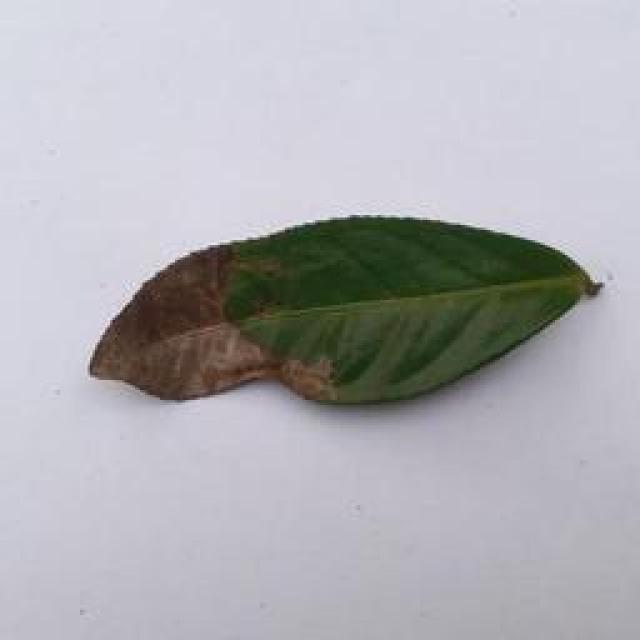Brown Blight: (68, 212, 607, 415)
